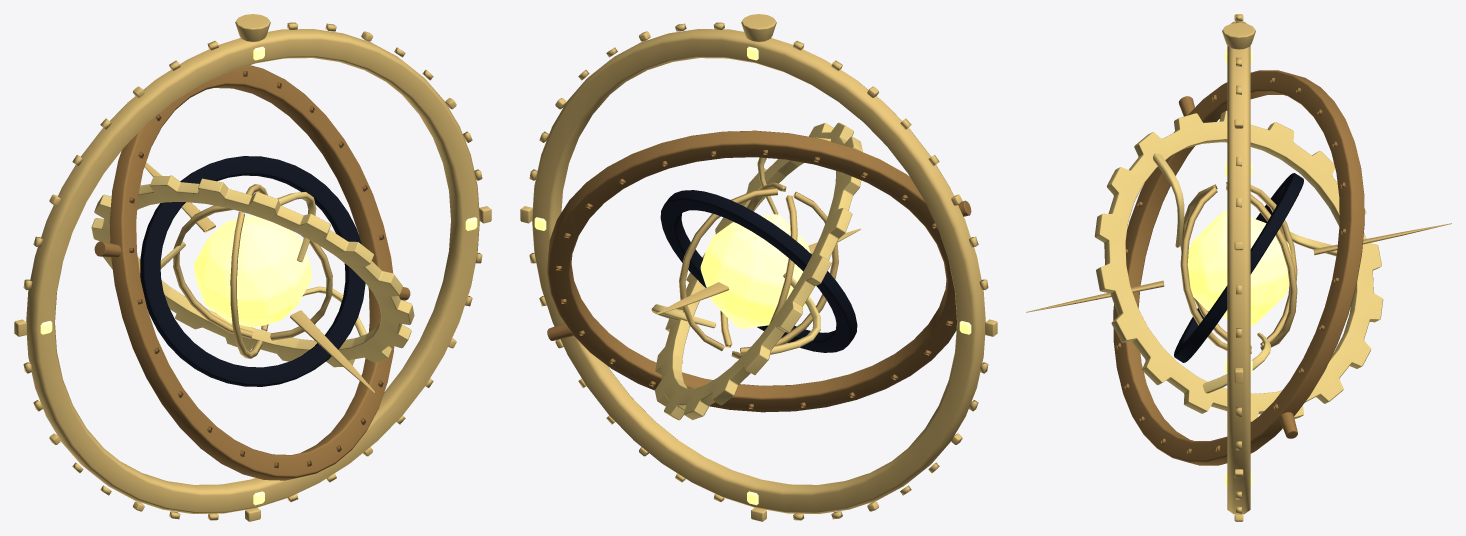
File: relic_meridian_astrolabe.glb
3 views of the same model, side by side, from view 1: azimuth 30°, elevation 25°; view 2: azimuth 150°, elevation 25°; view 3: azimuth 270°, elevation 25° (orthographic). The views are drawn at different scales.
Parts seen in each view (by area): view 1: Astrolabe_Outer_Ring, Astrolabe_Ecliptic_Ring, Astrolabe_Gear_Struts, Astrolabe_Inner_Obsidian, Astrolabe_Crystal_Core, Astrolabe_Vernier_Cage, Astrolabe_Cardinal_Gems; view 2: Astrolabe_Outer_Ring, Astrolabe_Ecliptic_Ring, Astrolabe_Gear_Struts, Astrolabe_Crystal_Core, Astrolabe_Inner_Obsidian, Astrolabe_Vernier_Cage, Astrolabe_Cardinal_Gems; view 3: Astrolabe_Ecliptic_Ring, Astrolabe_Gear_Struts, Astrolabe_Outer_Ring, Astrolabe_Crystal_Core, Astrolabe_Vernier_Cage, Astrolabe_Inner_Obsidian.
Part boxes in pixels (x1=…): Astrolabe_Outer_Ring: x1=14, y1=14, x2=491, y2=521; Astrolabe_Ecliptic_Ring: x1=94, y1=65, x2=410, y2=480; Astrolabe_Gear_Struts: x1=91, y1=175, x2=414, y2=367; Astrolabe_Inner_Obsidian: x1=140, y1=156, x2=365, y2=386; Astrolabe_Crystal_Core: x1=194, y1=215, x2=311, y2=327; Astrolabe_Vernier_Cage: x1=144, y1=162, x2=375, y2=392; Astrolabe_Cardinal_Gems: x1=40, y1=46, x2=477, y2=505; Astrolabe_Outer_Ring: x1=520, y1=14, x2=997, y2=521; Astrolabe_Ecliptic_Ring: x1=547, y1=130, x2=971, y2=412; Astrolabe_Gear_Struts: x1=651, y1=122, x2=862, y2=420; Astrolabe_Crystal_Core: x1=700, y1=214, x2=811, y2=328; Astrolabe_Inner_Obsidian: x1=660, y1=190, x2=857, y2=352; Astrolabe_Vernier_Cage: x1=656, y1=182, x2=861, y2=358; Astrolabe_Cardinal_Gems: x1=534, y1=46, x2=971, y2=505; Astrolabe_Ecliptic_Ring: x1=1113, y1=70, x2=1364, y2=465; Astrolabe_Gear_Struts: x1=1094, y1=110, x2=1383, y2=422; Astrolabe_Outer_Ring: x1=1222, y1=14, x2=1255, y2=521; Astrolabe_Crystal_Core: x1=1187, y1=210, x2=1291, y2=325; Astrolabe_Vernier_Cage: x1=1026, y1=182, x2=1451, y2=353; Astrolabe_Inner_Obsidian: x1=1174, y1=173, x2=1303, y2=362.
Size of the model in its own units: 1.63 by 1.64 by 1.33.
